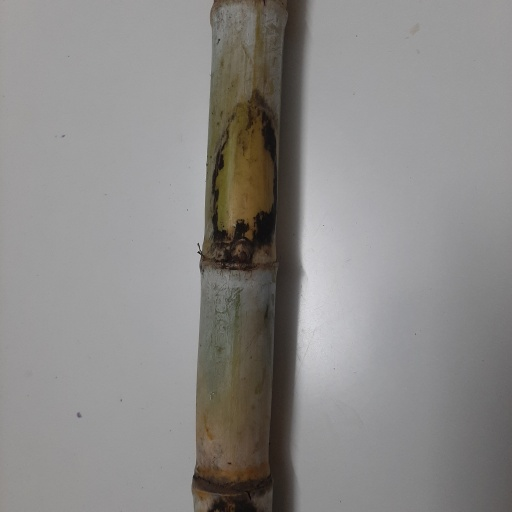Bud: (230, 238, 253, 266)
